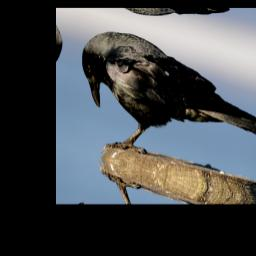Crow: (66, 20, 256, 199)
